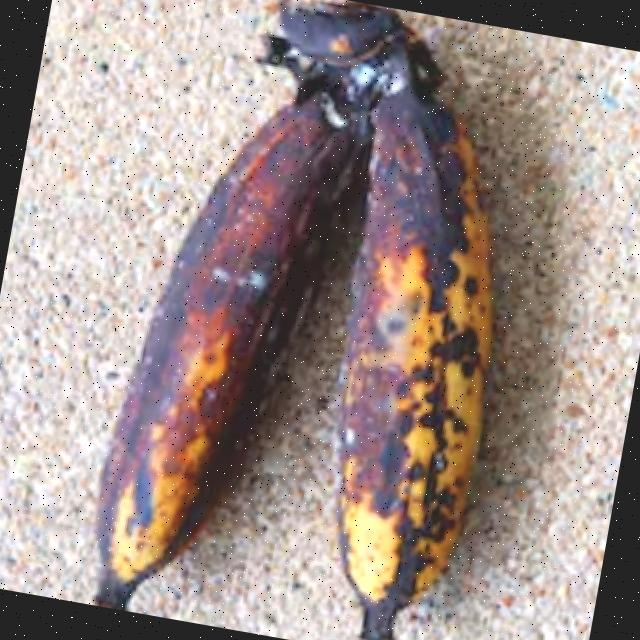Rotten: (263, 4, 597, 640), (43, 0, 365, 633)
